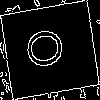O: (25, 24, 73, 71)
